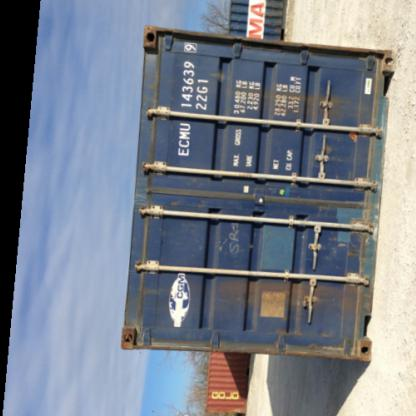Damage: (221, 272, 361, 315), (240, 84, 342, 122), (339, 213, 379, 261), (130, 272, 152, 346), (222, 218, 246, 264), (141, 23, 165, 50), (311, 142, 337, 166), (340, 127, 368, 148)
